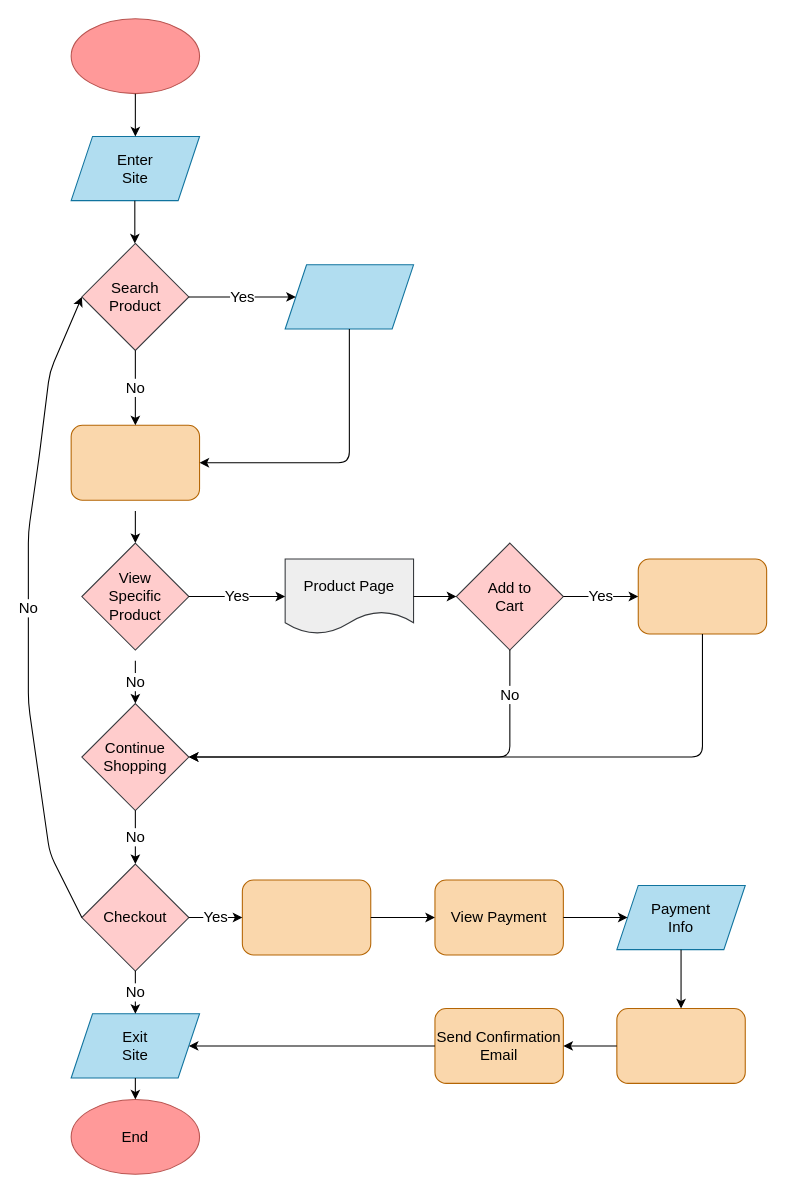
The diagram is 785 pixels wide and 1193 high, and some of its shapes have lost their labels. The shapes that lost their labels are listed below. From the top down, each one's centre as x and y in pixels, then its label:
the point at 135,56: Start
the point at 349,296: Search Input
the point at 135,462: List of Products
the point at 702,596: Add to Cart Confirmation
the point at 306,917: Checkout Page
the point at 680,1045: Order Confirmation
